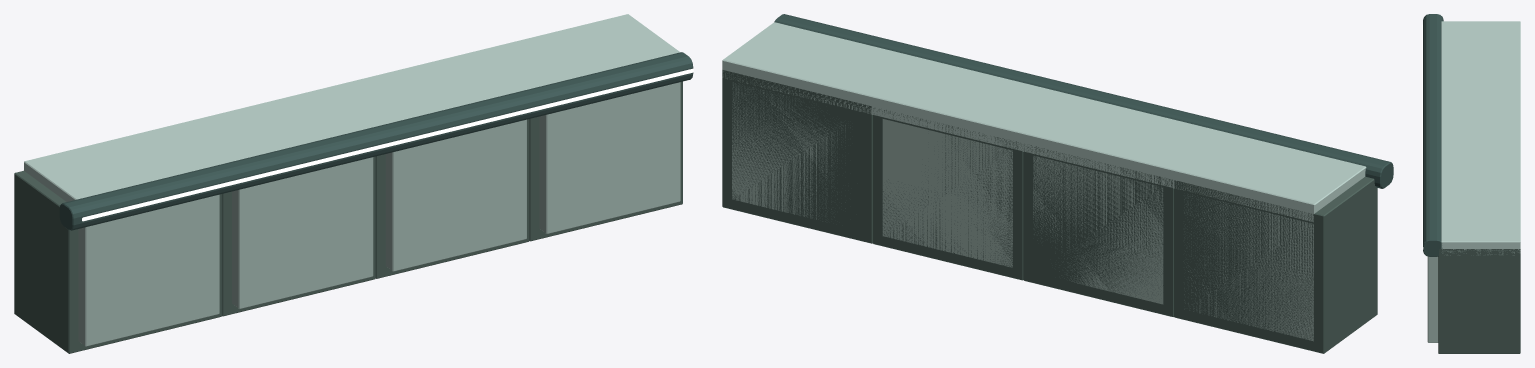
Rendered from Terrain_TopRun4L.gltf.
3 renders of one model, left to right at view 1: azimuth 30°, elevation 25°; view 2: azimuth 150°, elevation 25°; view 3: azimuth 270°, elevation 25°, orthographic. The views are drawn at different scales.
Parts seen in each view (by area): view 1: Terrain_TopRun4L_baked; view 2: Terrain_TopRun4L_baked; view 3: Terrain_TopRun4L_baked.
Part boxes in pixels (box(x1,y1,x2,y2)): Terrain_TopRun4L_baked: box(14, 14, 693, 353); Terrain_TopRun4L_baked: box(722, 14, 1393, 353); Terrain_TopRun4L_baked: box(1422, 14, 1520, 353).
Size of the model in its own units: 4.04 by 0.9495 by 0.74.
